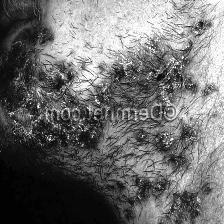Toxin: (17, 82, 111, 152), (155, 183, 213, 224), (8, 55, 38, 109), (136, 176, 166, 200)
